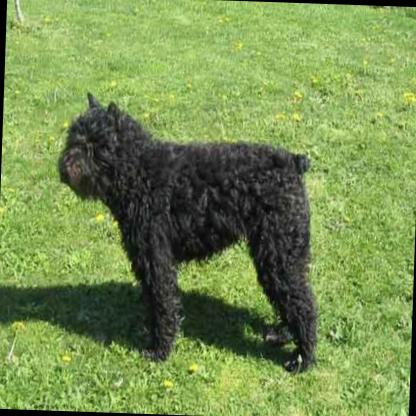Bouvier_des_Flandres: (50, 89, 326, 376)
